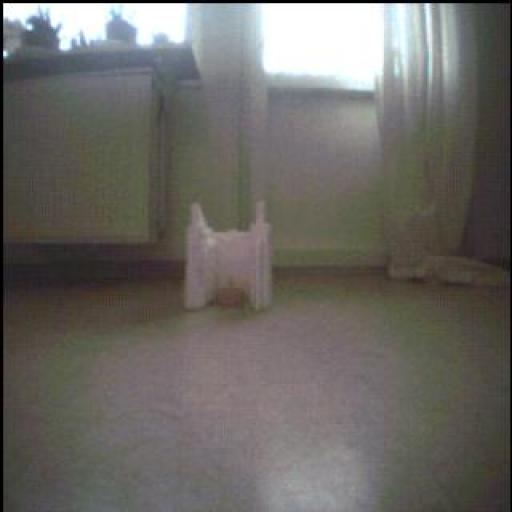Basket: (212, 273, 252, 314)
